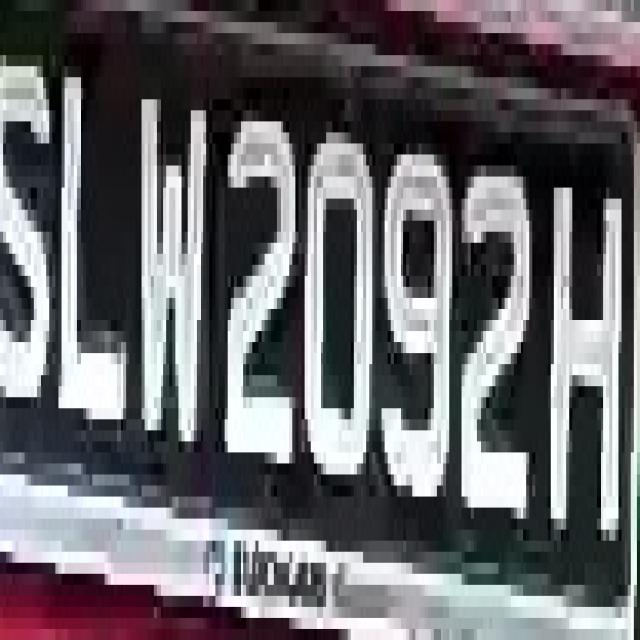0: (302, 100, 376, 497)
2: (449, 154, 538, 563), (212, 78, 296, 474)
9: (378, 132, 468, 541)
H: (529, 88, 622, 585)
L: (49, 55, 132, 452)
S: (0, 44, 52, 419)
W: (130, 44, 216, 464)
